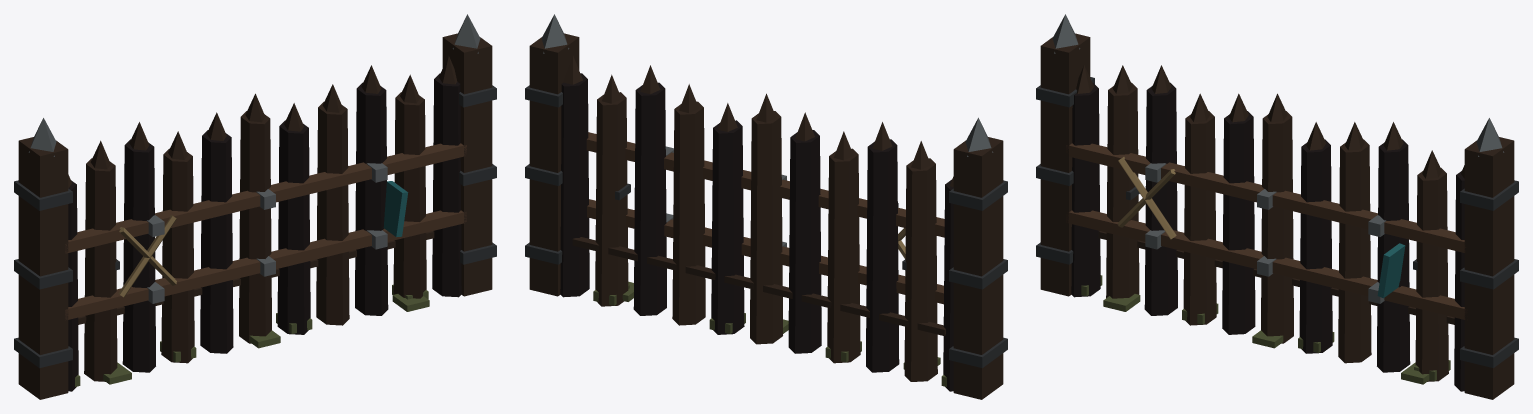
File: fenbridge_palisade_wing.glb
3 renders of one model, left to right at view 1: azimuth 30°, elevation 25°; view 2: azimuth 150°, elevation 25°; view 3: azimuth 330°, elevation 25°, orthographic.
Parts seen in each view (by area): view 1: FenbridgePalisadeWing_FenbridgeOpaque; view 2: FenbridgePalisadeWing_FenbridgeOpaque; view 3: FenbridgePalisadeWing_FenbridgeOpaque.
Boxes of the visible parts, x1,y1,x2,y2 form: FenbridgePalisadeWing_FenbridgeOpaque: (14, 14, 496, 399); FenbridgePalisadeWing_FenbridgeOpaque: (525, 14, 1007, 399); FenbridgePalisadeWing_FenbridgeOpaque: (1036, 14, 1518, 399).
Bounding box in the file's own units: 6 × 3.4 × 0.75.
